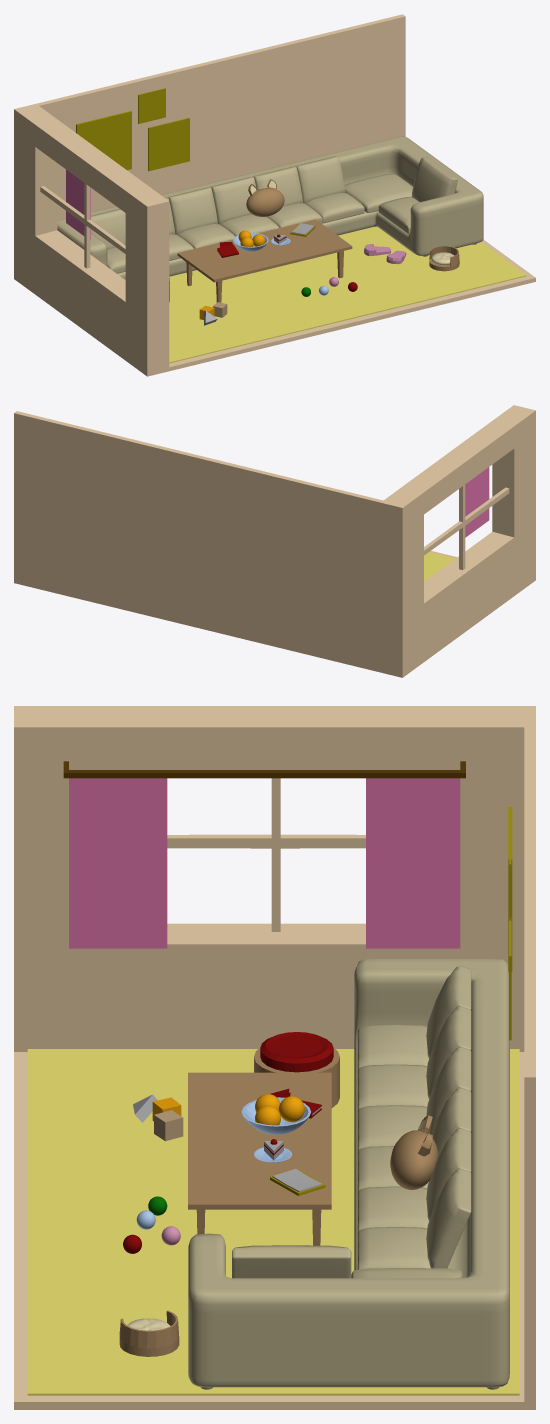
Rendered from livingroom.fbx.
The picture shows the model from 3 angles, top to bottom: view 1: azimuth 30°, elevation 25°; view 2: azimuth 150°, elevation 25°; view 3: azimuth 270°, elevation 25°; orthographic projection. The views are drawn at different scales.
Parts seen in each view (by area): view 1: pCube37, pCube61, pCube52, pCube45, pCube66, pCube62, pSphere22, pCube65, pCylinder47, pSphere25, pCube199; view 2: pCube37, pCube65, pCube61; view 3: pCube37, pCube61, pCube45, pCube65, pCube52, pCube66, pCylinder19, pSphere22, pCylinder47, pSphere25, pCube199, pSphere24 (+3 smaller).
Boxes of the visible parts, left/top/right/bottom form: pCube37: left=14, top=14, right=535, bottom=376; pCube61: left=169, top=227, right=526, bottom=363; pCube52: left=91, top=156, right=457, bottom=273; pCube45: left=57, top=136, right=483, bottom=279; pCube66: left=177, top=219, right=352, bottom=302; pCube62: left=76, top=88, right=189, bottom=171; pSphere22: left=246, top=179, right=284, bottom=216; pCube65: left=66, top=169, right=90, bottom=240; pCylinder47: left=429, top=246, right=459, bottom=271; pSphere25: left=233, top=230, right=268, bottom=251; pCube199: left=199, top=302, right=227, bottom=325; pCube37: left=14, top=405, right=535, bottom=677; pCube65: left=465, top=467, right=489, bottom=537; pCube61: left=424, top=552, right=455, bottom=581; pCube37: left=14, top=706, right=535, bottom=1409; pCube61: left=27, top=1049, right=519, bottom=1395; pCube45: left=188, top=959, right=509, bottom=1389; pCube65: left=63, top=761, right=465, bottom=948; pCube52: left=232, top=966, right=471, bottom=1278; pCube66: left=188, top=1072, right=331, bottom=1245; pCylinder19: left=260, top=1032, right=333, bottom=1072; pSphere22: left=390, top=1115, right=438, bottom=1189; pCylinder47: left=119, top=1310, right=179, bottom=1356; pSphere25: left=241, top=1094, right=310, bottom=1134; pCube199: left=133, top=1094, right=183, bottom=1141; pSphere24: left=123, top=1196, right=180, bottom=1253.
Bounding box in the file's own units: 22.47 × 9.39 × 13.35.
